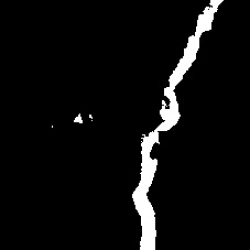crack: (133, 1, 220, 248), (72, 114, 85, 123)
